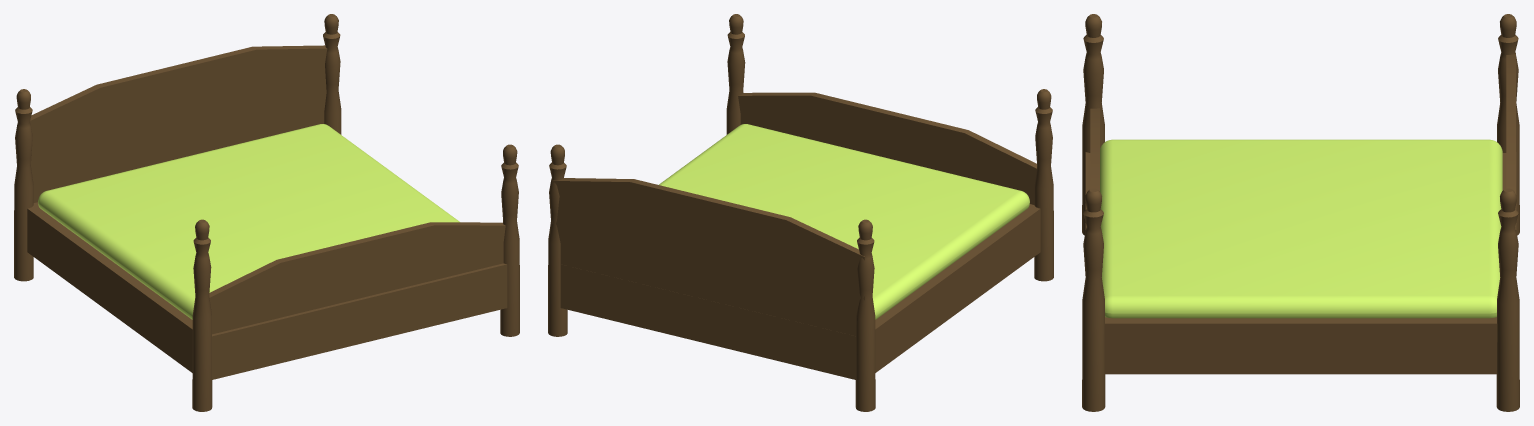
Rendered from 3_Bed.fbx.
The picture shows the model from 3 angles, left to right: view 1: azimuth 30°, elevation 25°; view 2: azimuth 150°, elevation 25°; view 3: azimuth 270°, elevation 25°; orthographic projection. The views are drawn at different scales.
Visible parts, largest first — view 1: Cube.023; view 2: Cube.023; view 3: Cube.023.
Boxes of the visible parts, bbox=[...] form: Cube.023: bbox=[14, 14, 519, 411]; Cube.023: bbox=[548, 14, 1053, 411]; Cube.023: bbox=[1082, 14, 1519, 411].
Size of the model in its own units: 94 by 51.55 by 94.36.
